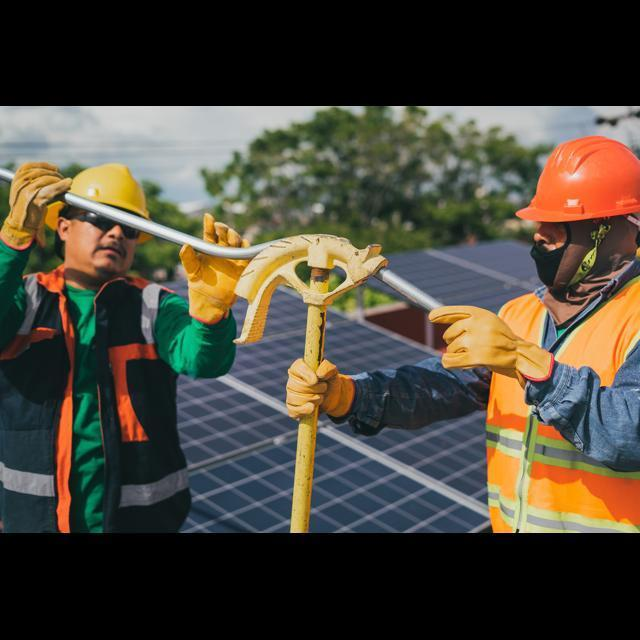Capacete: (516, 136, 639, 221), (70, 163, 149, 218)
Colete: (94, 278, 190, 531), (487, 374, 639, 531)
Oculos: (72, 211, 139, 239)
Pessoa: (287, 136, 639, 531), (0, 163, 245, 531)
